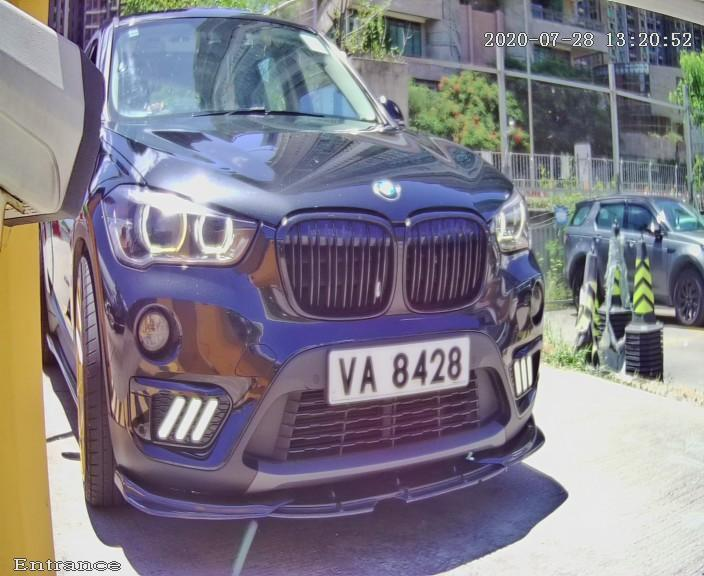privatecar: (32, 8, 620, 569)
